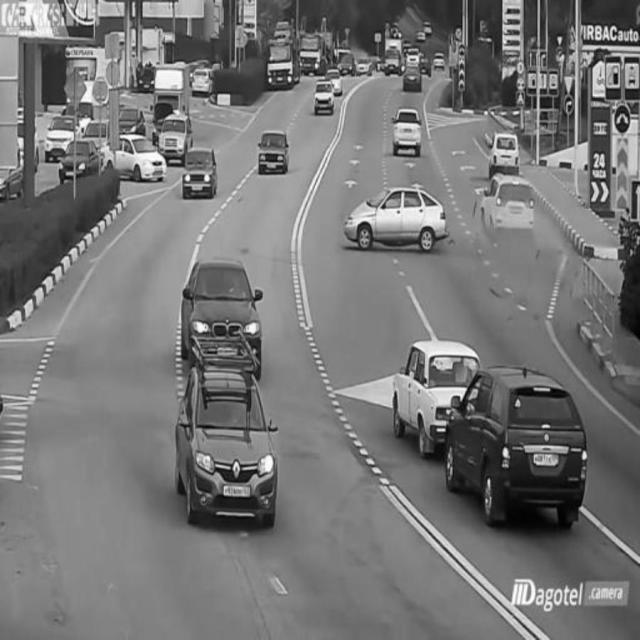vehicle: (448, 369, 592, 529), (171, 361, 287, 531), (389, 328, 472, 441), (179, 254, 269, 348), (347, 183, 448, 256), (483, 163, 538, 239), (109, 130, 167, 184), (179, 141, 223, 205), (58, 132, 100, 182), (264, 31, 300, 88), (389, 105, 423, 157), (298, 26, 333, 76), (156, 110, 190, 156), (44, 105, 74, 156), (484, 130, 522, 170), (257, 124, 287, 172), (312, 76, 338, 116), (400, 56, 424, 93), (192, 61, 212, 95)
